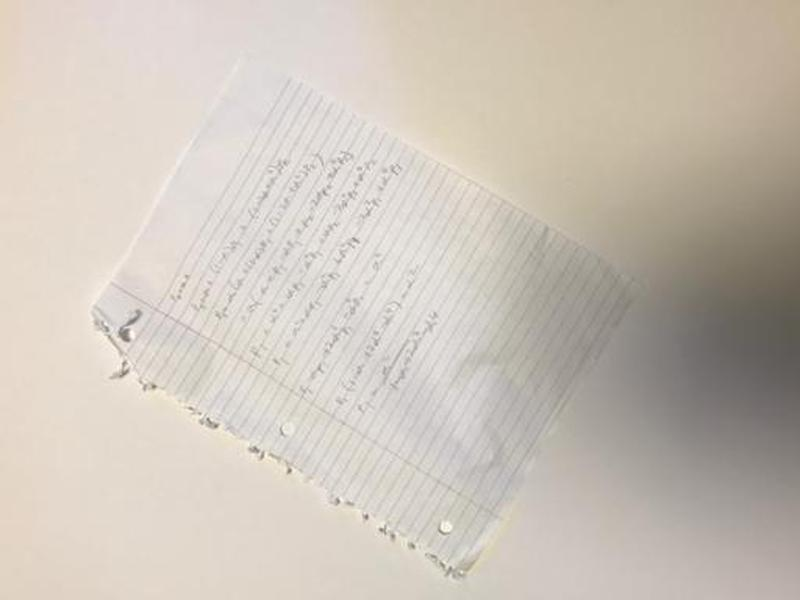paper: (88, 51, 631, 582)
